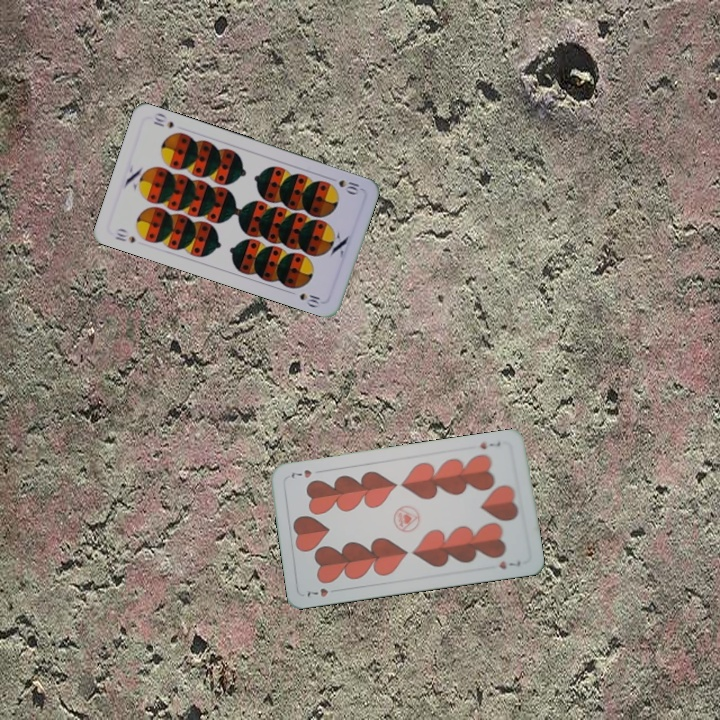H7: (302, 584, 342, 600), (476, 438, 503, 452)
S10: (111, 224, 138, 246), (334, 176, 362, 197)
